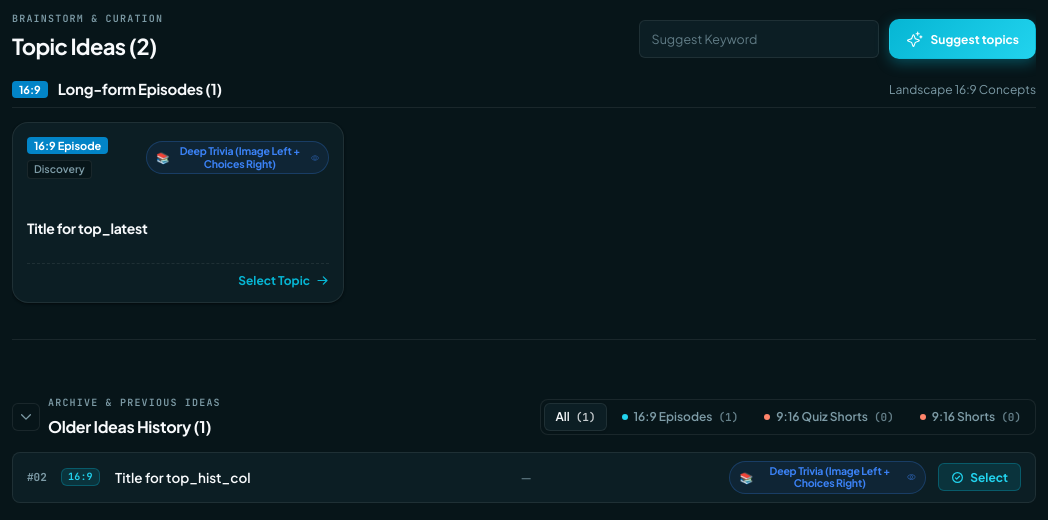
Test case: ChannelTopicsTab › toggles collapse and expand on entire history section header
Expected: the text "Title for top_hist_col" is shown, [115,469,250,486]
# Click collapse
Click the button named "Collapse older ideas history" at (26, 417), box [12,403,40,431]
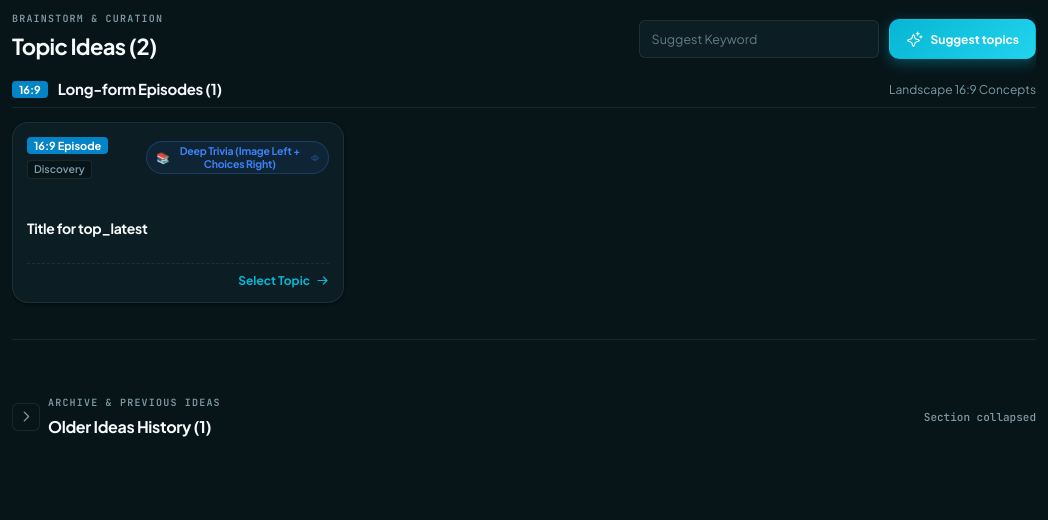
Expected: the button named "Collapse older ideas history" is collapsed
Expected: the text "Title for top_hist_col" is gone
Expected: the text "Section collapsed" is shown, [924,410,1036,424]
# Click expand
Click the button named "Collapse older ideas history" at (26, 417), box [12,403,40,431]
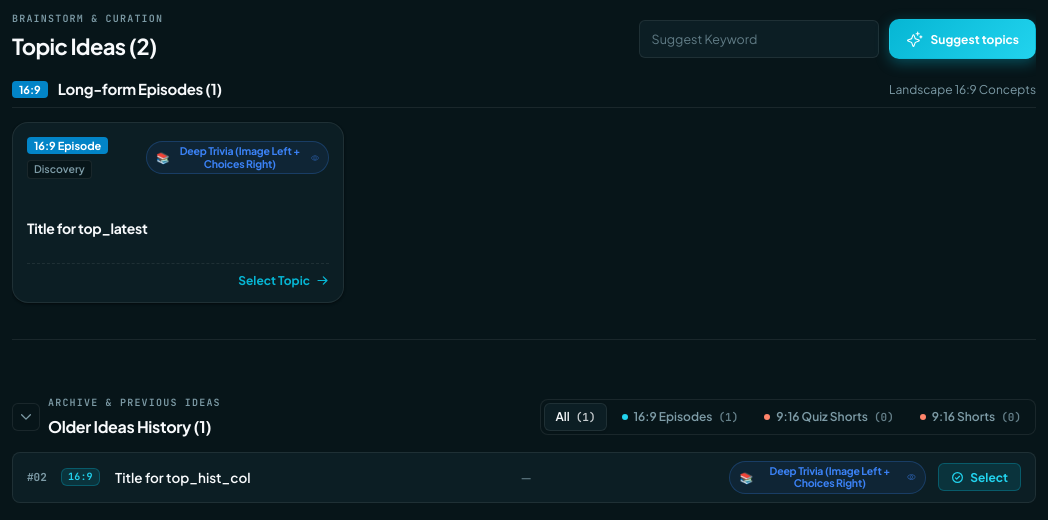
Expected: the button named "Collapse older ideas history" is expanded, [12,403,40,431]
Expected: the text "Title for top_hist_col" is shown, [115,469,250,486]
